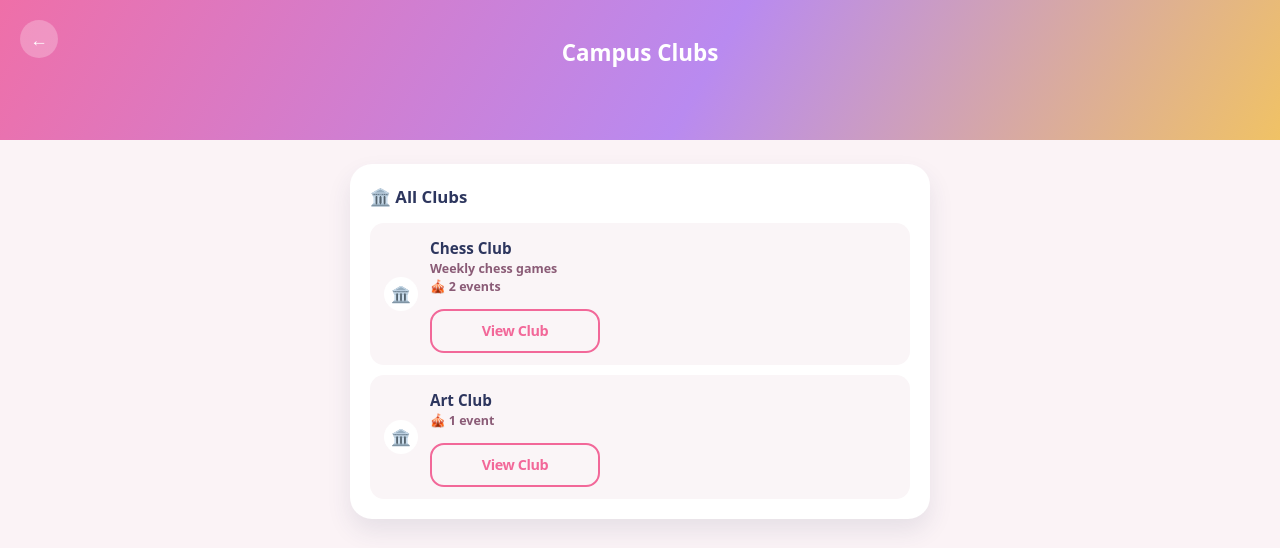
Test: ClubsPage (browse clubs) › F6: View Club shows the club description and its events
What coordinates should you click on to do the following:
click the button "View Club" below "events"
I would click on:
 (515, 331)
Its box is left=430, top=309, right=600, bottom=353.
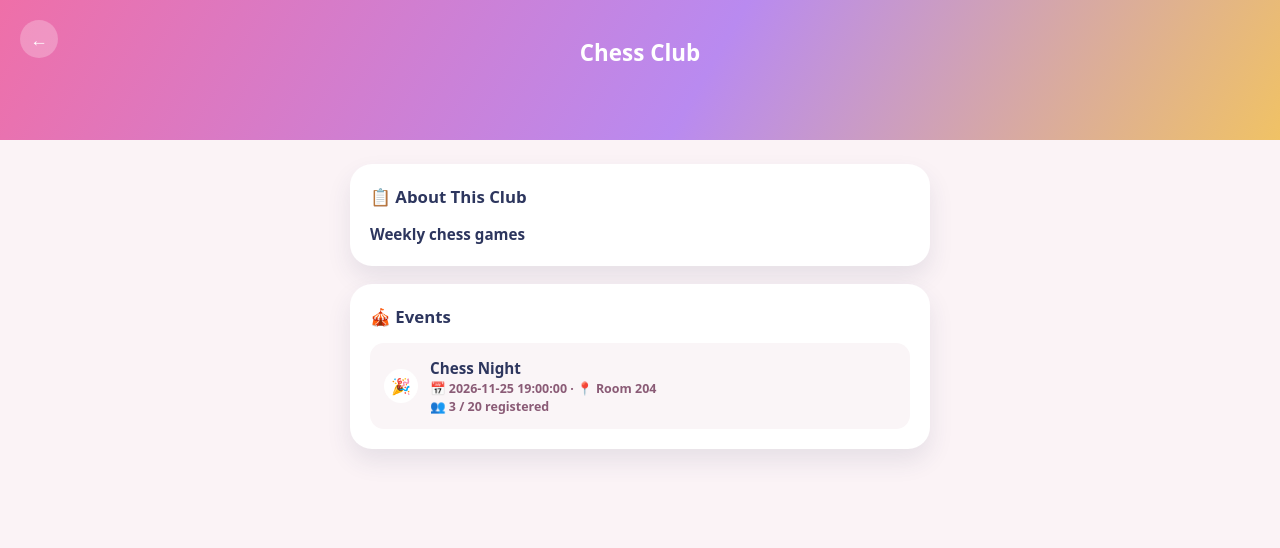
Now the heading "Chess Club" is shown, box left=580, top=37, right=700, bottom=68
Now the heading "📋 About This Club" is shown, box left=370, top=185, right=527, bottom=208
Now the text "Weekly chess games" is shown, box left=370, top=224, right=525, bottom=244
